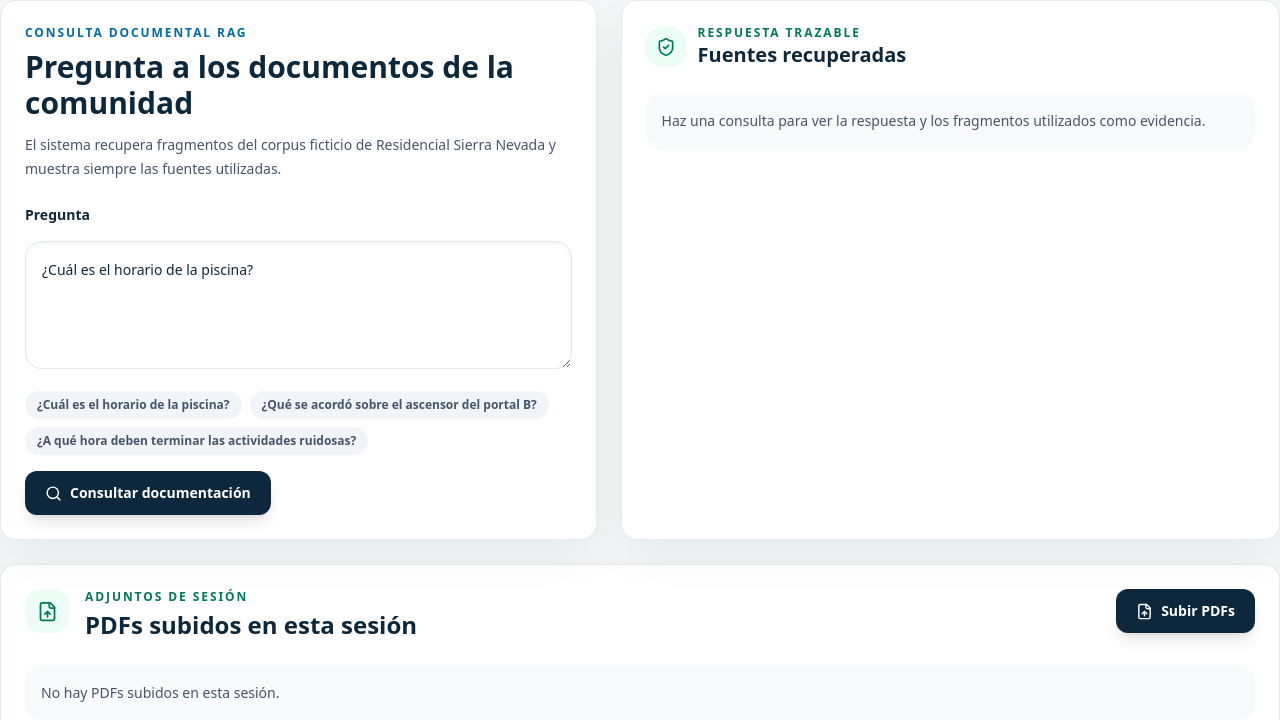
Test: DocumentQueryPanel › consulta documentos y muestra respuesta con fuentes
Click the button "Consultar documentación".
click(148, 493)  # box [25,471,271,515]
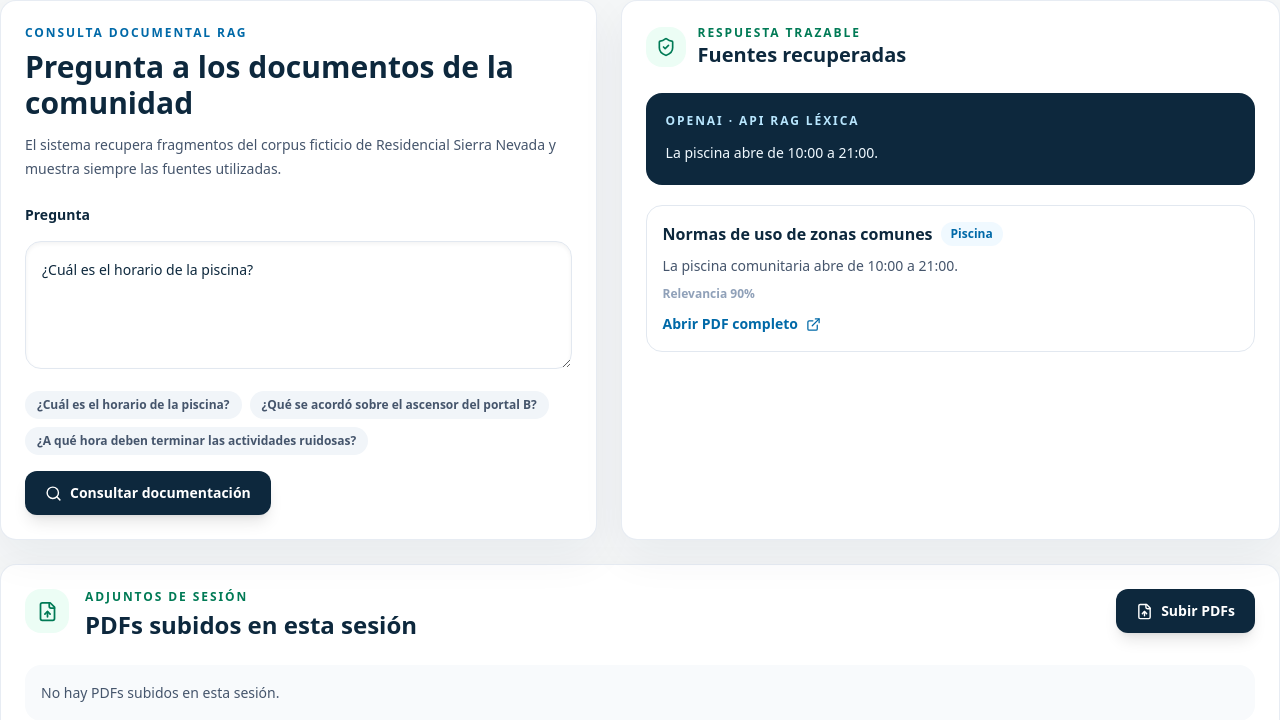
Check: the text "OpenAI · API RAG léxica" is shown, box [666,112,859,129]
Check: the heading "Normas de uso de zonas comunes" is shown, box [663,222,933,246]
